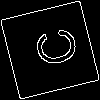C: (25, 25, 80, 72)
